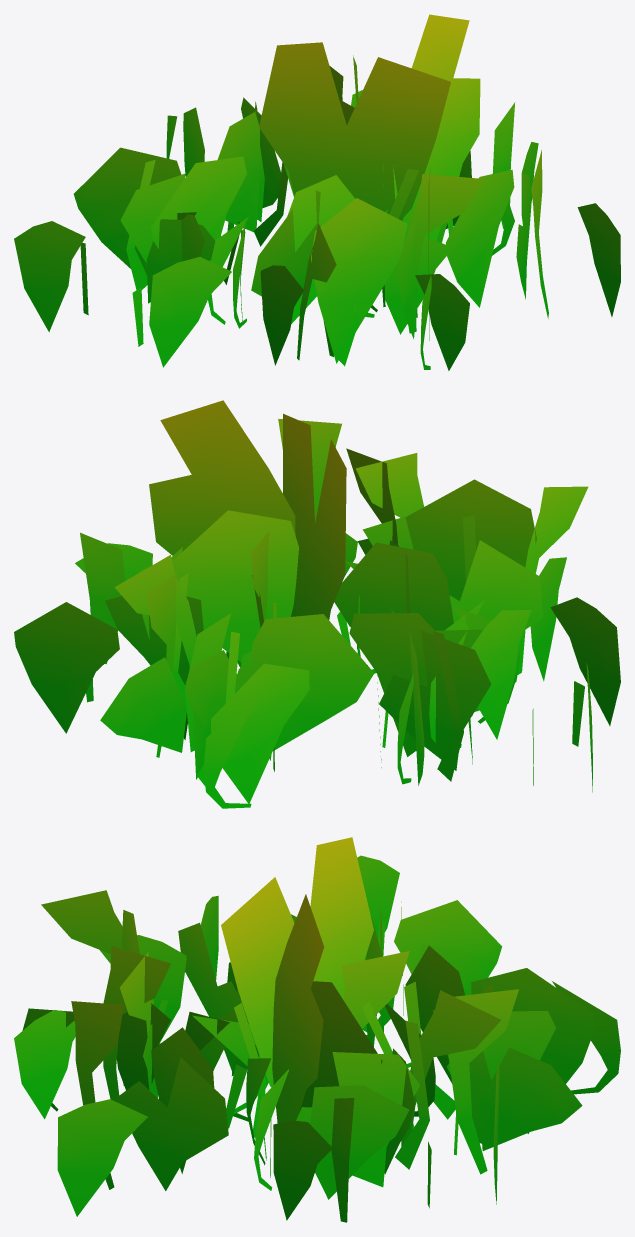
File: Lingonberry_LOD4_Var2.fbx
3 views of the same model, one above another, from view 1: azimuth 30°, elevation 25°; view 2: azimuth 150°, elevation 25°; view 3: azimuth 270°, elevation 25° (orthographic). The views are drawn at different scales.
Visible parts, largest first — view 1: _n0mz_Var2_LOD4; view 2: _n0mz_Var2_LOD4; view 3: _n0mz_Var2_LOD4.
Part boxes in pixels (box(x1,y1,x2,y2)): _n0mz_Var2_LOD4: box(14, 14, 620, 370); _n0mz_Var2_LOD4: box(14, 400, 620, 808); _n0mz_Var2_LOD4: box(14, 837, 620, 1222).
Size of the model in its own units: 55.22 by 28.18 by 52.19.
